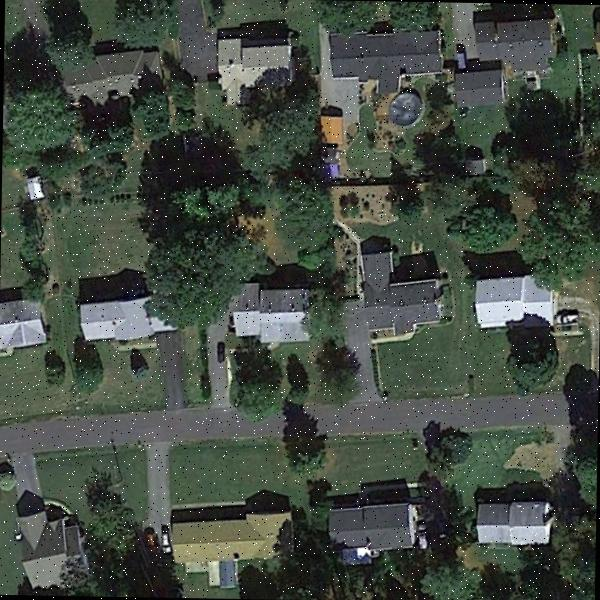Buildings: (460, 4, 560, 99), (332, 30, 439, 92), (178, 510, 284, 570), (358, 266, 440, 332), (24, 508, 85, 596), (63, 50, 156, 104), (216, 37, 294, 98), (333, 507, 420, 552), (234, 293, 308, 344), (481, 497, 554, 547), (92, 302, 154, 342), (476, 280, 540, 316), (0, 307, 46, 354)
